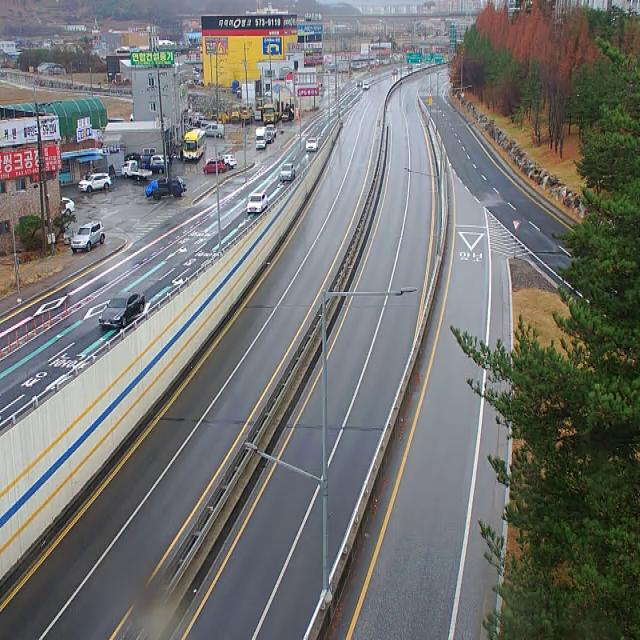Bus: (183, 129, 207, 161)
Car: (99, 292, 145, 328), (71, 220, 105, 254), (78, 173, 112, 194), (247, 193, 267, 213), (198, 124, 224, 137), (280, 163, 295, 182), (203, 161, 224, 174), (61, 197, 75, 216), (223, 155, 237, 170), (150, 155, 170, 165), (281, 109, 294, 122), (306, 138, 318, 152), (266, 125, 277, 138), (266, 133, 274, 144), (363, 83, 370, 91), (356, 80, 363, 86)
Truck: (151, 177, 187, 200), (122, 161, 152, 181), (138, 155, 164, 173), (262, 105, 278, 123), (256, 127, 266, 150)
